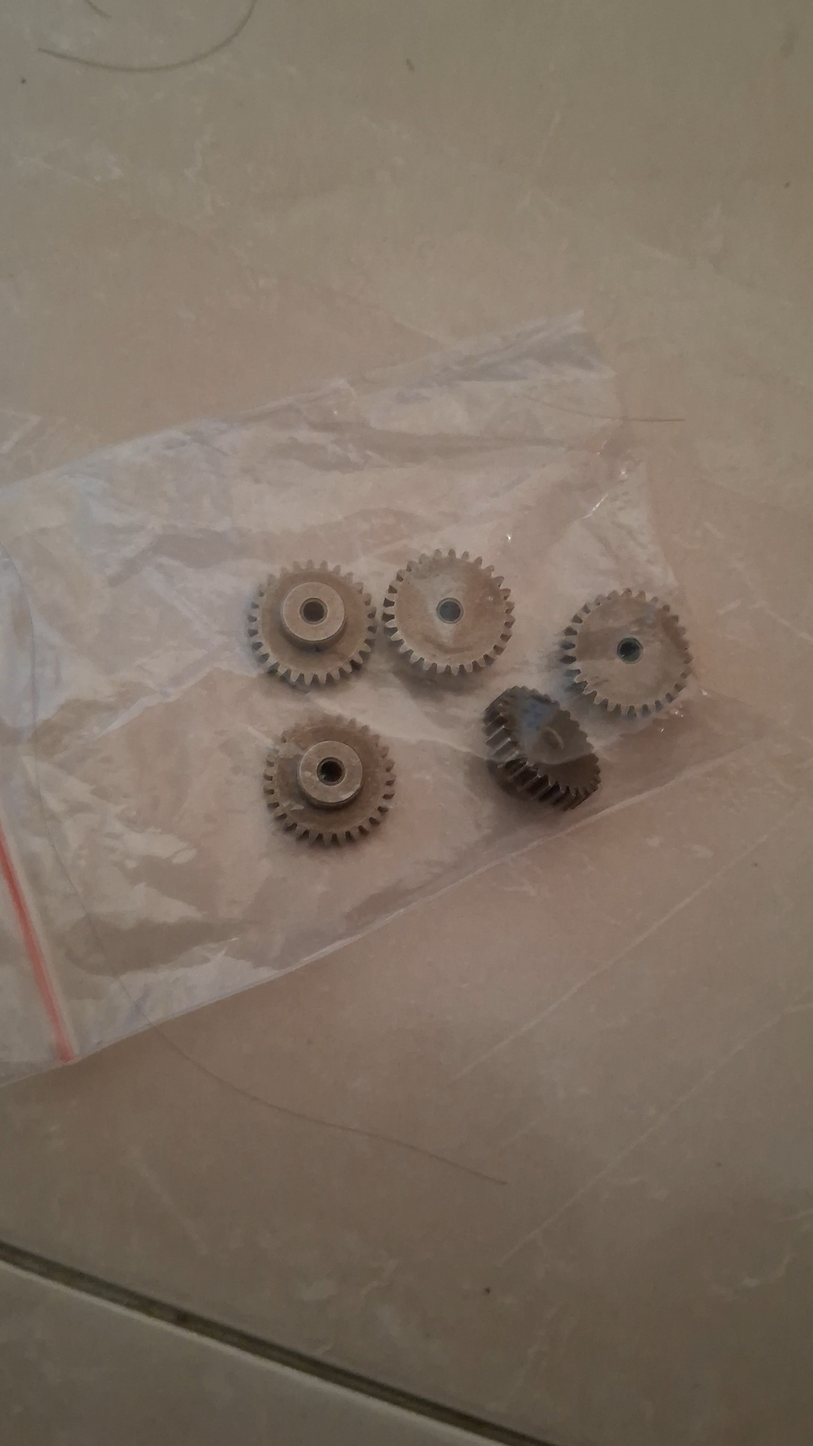spur gear: (264, 716, 394, 844), (562, 589, 691, 715), (382, 550, 513, 674), (248, 561, 376, 685), (484, 687, 600, 808)
